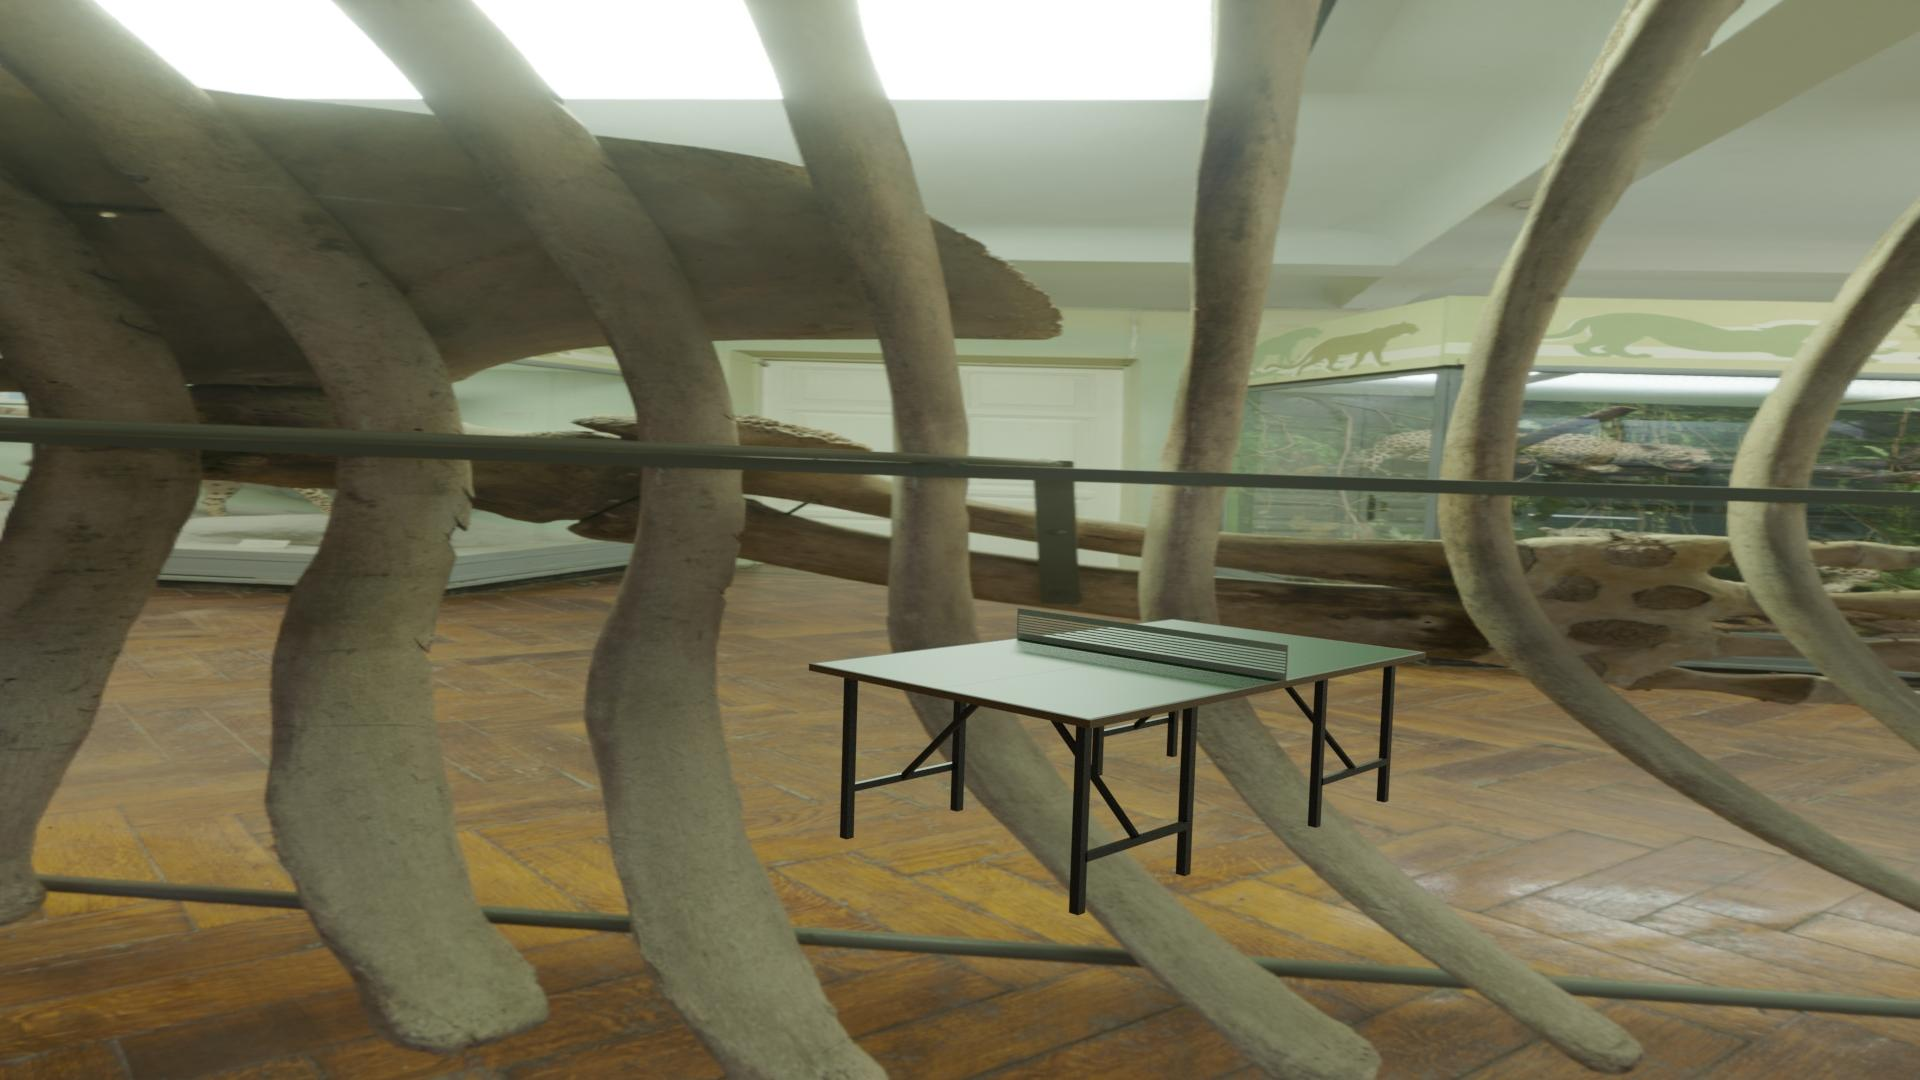table: (815, 620, 1420, 719)
